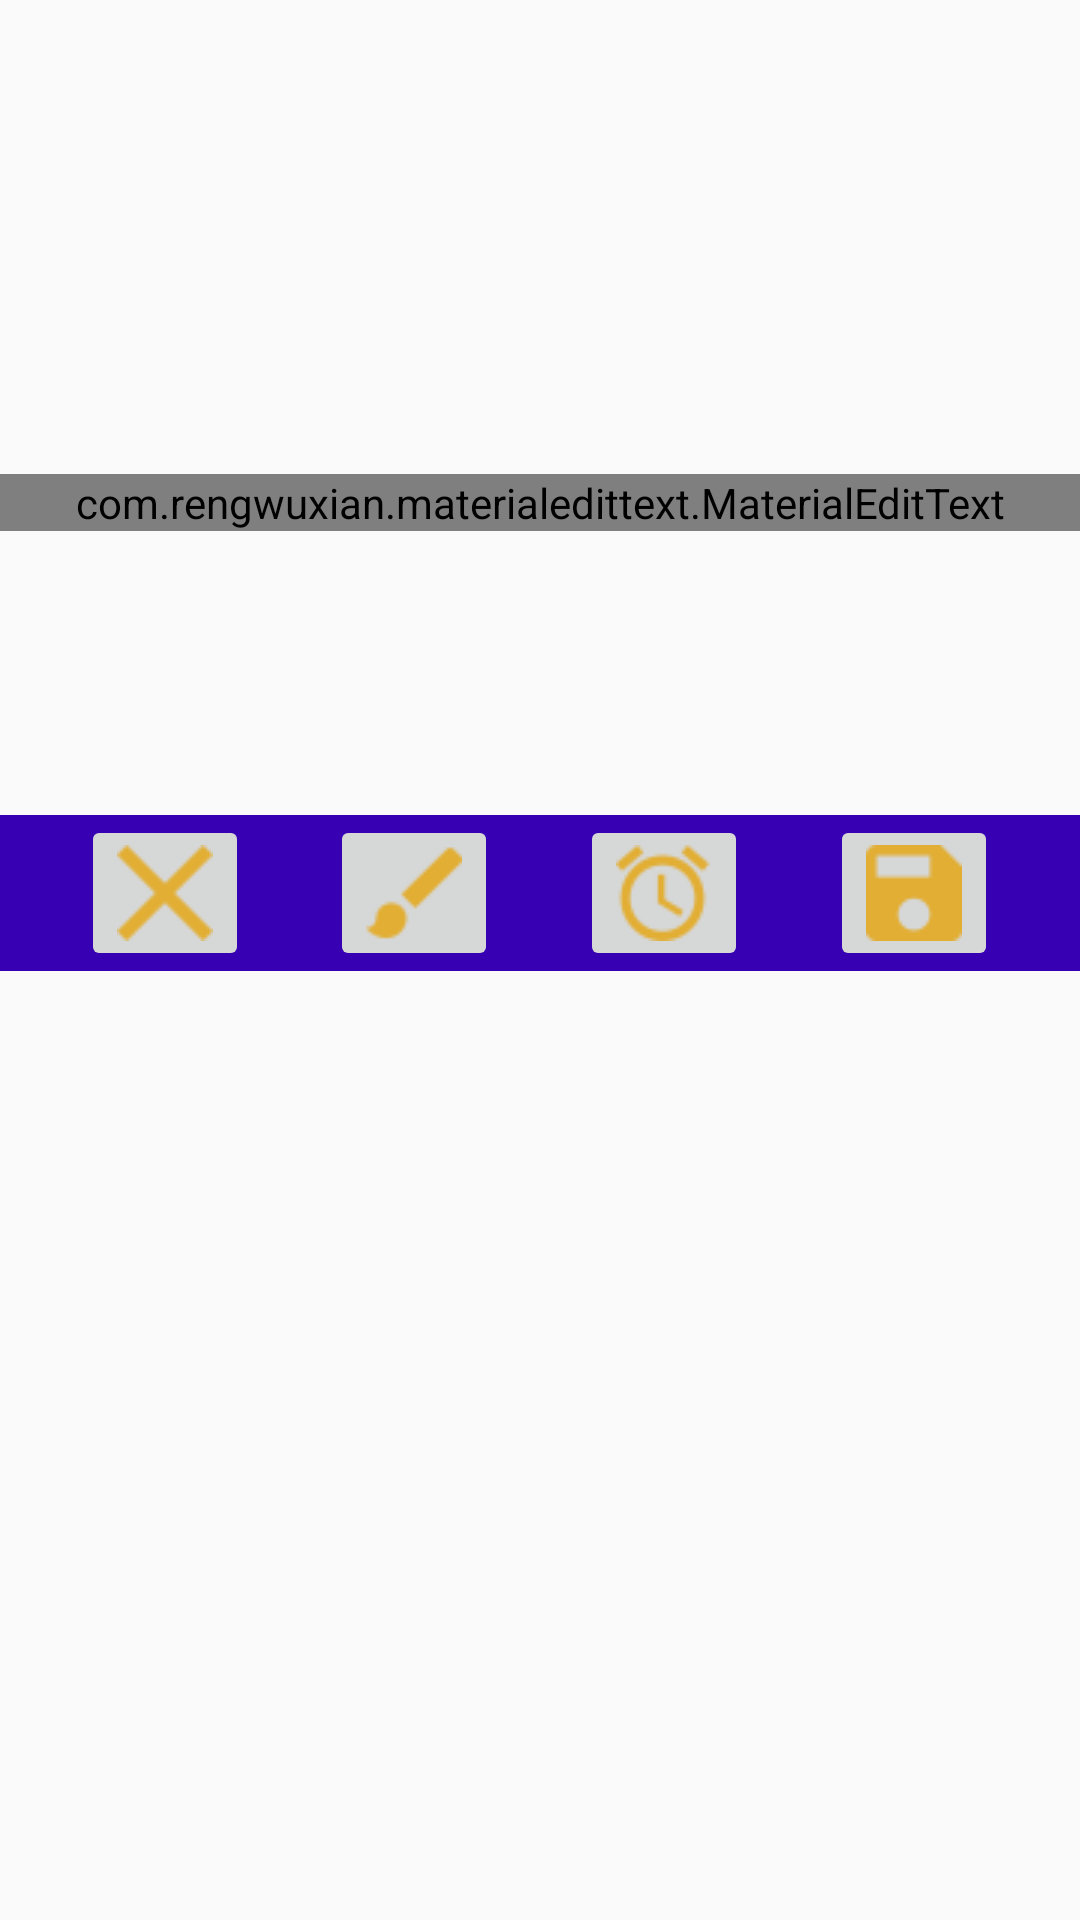

Icons on this 1080w x 1920h Android screen, each with its box as (x1, y1, x2, y2):
brush: (342, 833, 486, 953)
clock: (592, 833, 736, 953)
close: (93, 833, 237, 953)
save: (842, 833, 986, 953)
